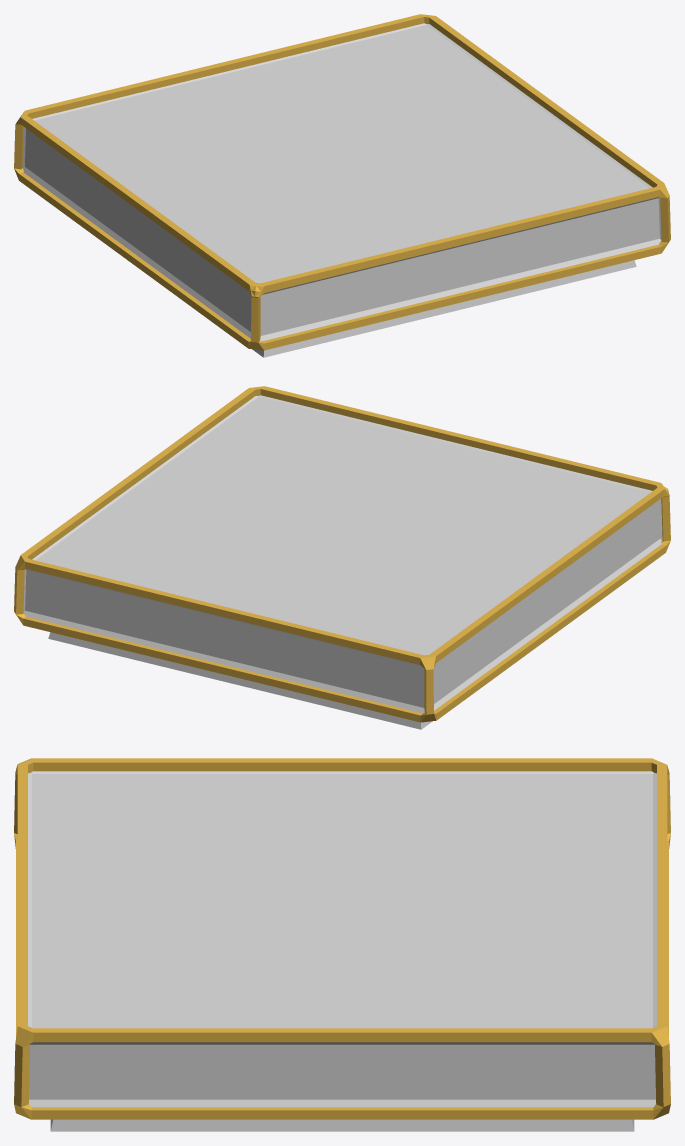
File: PlatformSquare.fbx
3 renders of one model, top to bottom at view 1: azimuth 30°, elevation 25°; view 2: azimuth 150°, elevation 25°; view 3: azimuth 270°, elevation 25°, orthographic. The views are drawn at different scales.
Visible parts, largest first — view 1: FrameTiny; view 2: FrameTiny; view 3: FrameTiny.
Part boxes in pixels (bbox=[...]): FrameTiny: bbox=[14, 14, 670, 357]; FrameTiny: bbox=[14, 386, 670, 729]; FrameTiny: bbox=[14, 758, 670, 1131].
Size of the model in its own units: 409 by 122 by 409.
